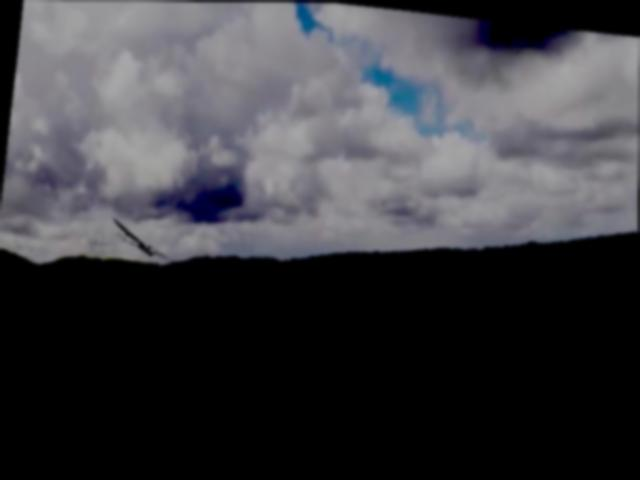iha: (101, 216, 179, 260)
